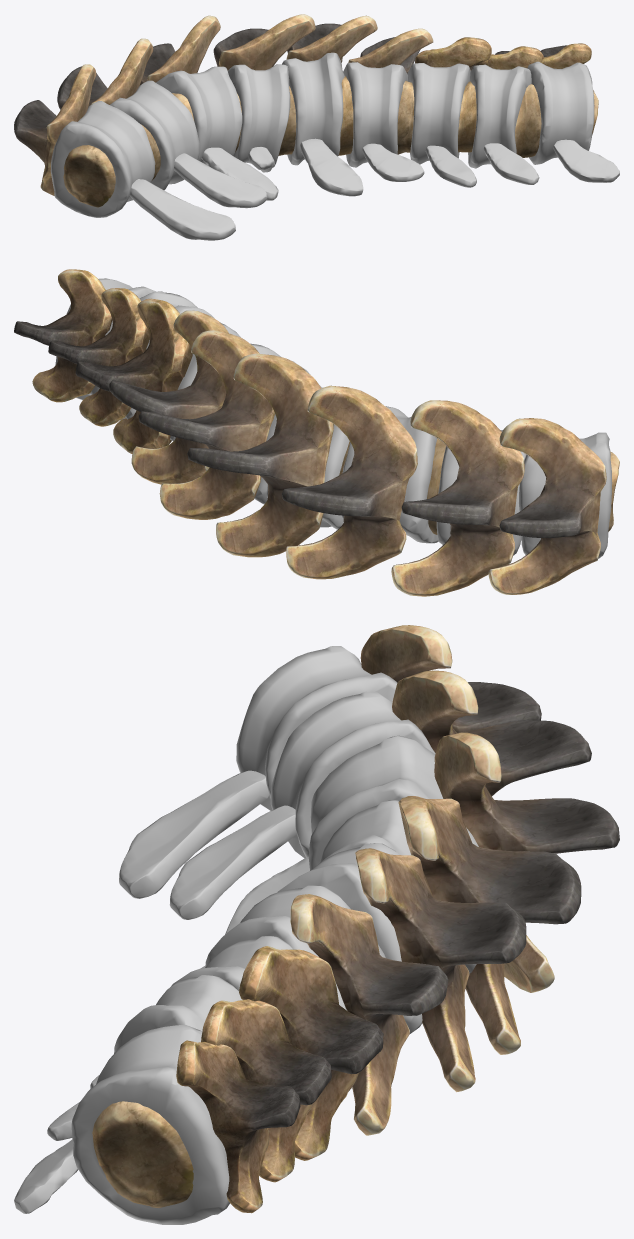
3 renders of one model, top to bottom at view 1: azimuth 30°, elevation 25°; view 2: azimuth 150°, elevation 25°; view 3: azimuth 270°, elevation 25°, orthographic. The views are drawn at different scales.
Parts seen in each view (by area): view 1: SM_Dragon_Tail_Segment_01_LOD0; view 2: SM_Dragon_Tail_Segment_01_LOD0; view 3: SM_Dragon_Tail_Segment_01_LOD0.
Part boxes in pixels (left/top/right/bottom): SM_Dragon_Tail_Segment_01_LOD0: left=14, top=14, right=619, bottom=240; SM_Dragon_Tail_Segment_01_LOD0: left=14, top=269, right=619, bottom=596; SM_Dragon_Tail_Segment_01_LOD0: left=14, top=625, right=619, bottom=1224.
Size of the model in its own units: 29.14 by 8.12 by 17.34.
